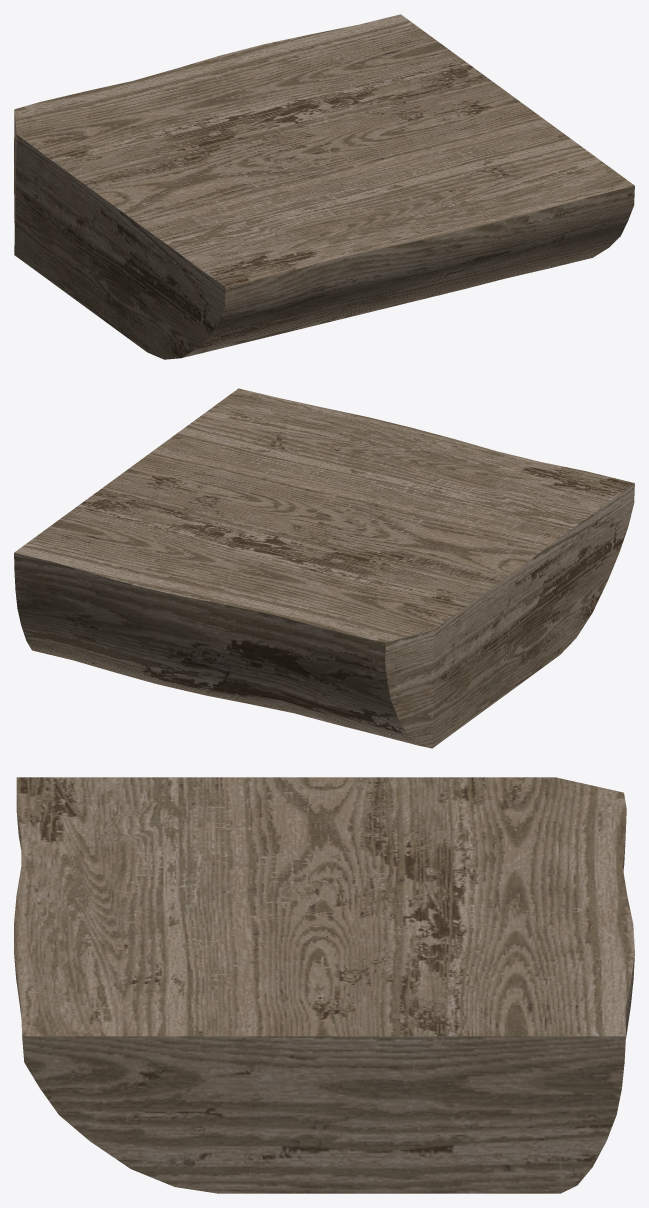
Rendered from SM_CJ_Step_Wood.fbx.
3 views of the same model, one above another, from view 1: azimuth 30°, elevation 25°; view 2: azimuth 150°, elevation 25°; view 3: azimuth 270°, elevation 25° (orthographic). The views are drawn at different scales.
Parts seen in each view (by area): view 1: SM_CJ_Step_Wood; view 2: SM_CJ_Step_Wood; view 3: SM_CJ_Step_Wood.
Part boxes in pixels (bbox=[...]): SM_CJ_Step_Wood: bbox=[14, 14, 634, 359]; SM_CJ_Step_Wood: bbox=[14, 388, 634, 748]; SM_CJ_Step_Wood: bbox=[14, 777, 634, 1193].
Size of the model in its own units: 108 by 109 by 30.58.
1 material, 1 textured.
